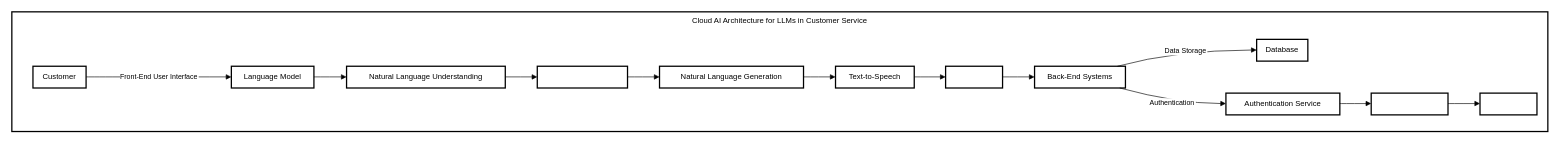
Some shapes in this 1559 by 143 pixel diagram are drawn without their labels. Here are the shapes that lost their labels. From the top down, the box of each, then its label:
(536, 65, 628, 88): Dialogue Manager
(945, 65, 1003, 88): Cloud APIs
(1370, 92, 1448, 115): Security Policy
(1479, 92, 1537, 115): Audit Logs
